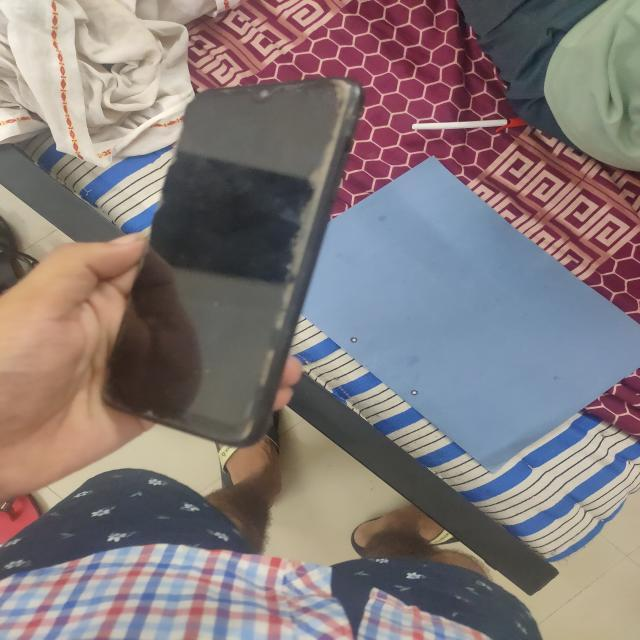Phone: (96, 76, 365, 448)
